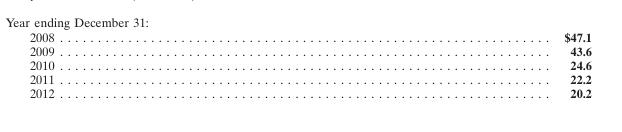table: (28, 28, 591, 100)
table column: (308, 28, 591, 100), (28, 28, 308, 100)
table row: (28, 28, 591, 43), (28, 71, 591, 86), (28, 43, 591, 57), (28, 57, 591, 71), (28, 86, 591, 100)
